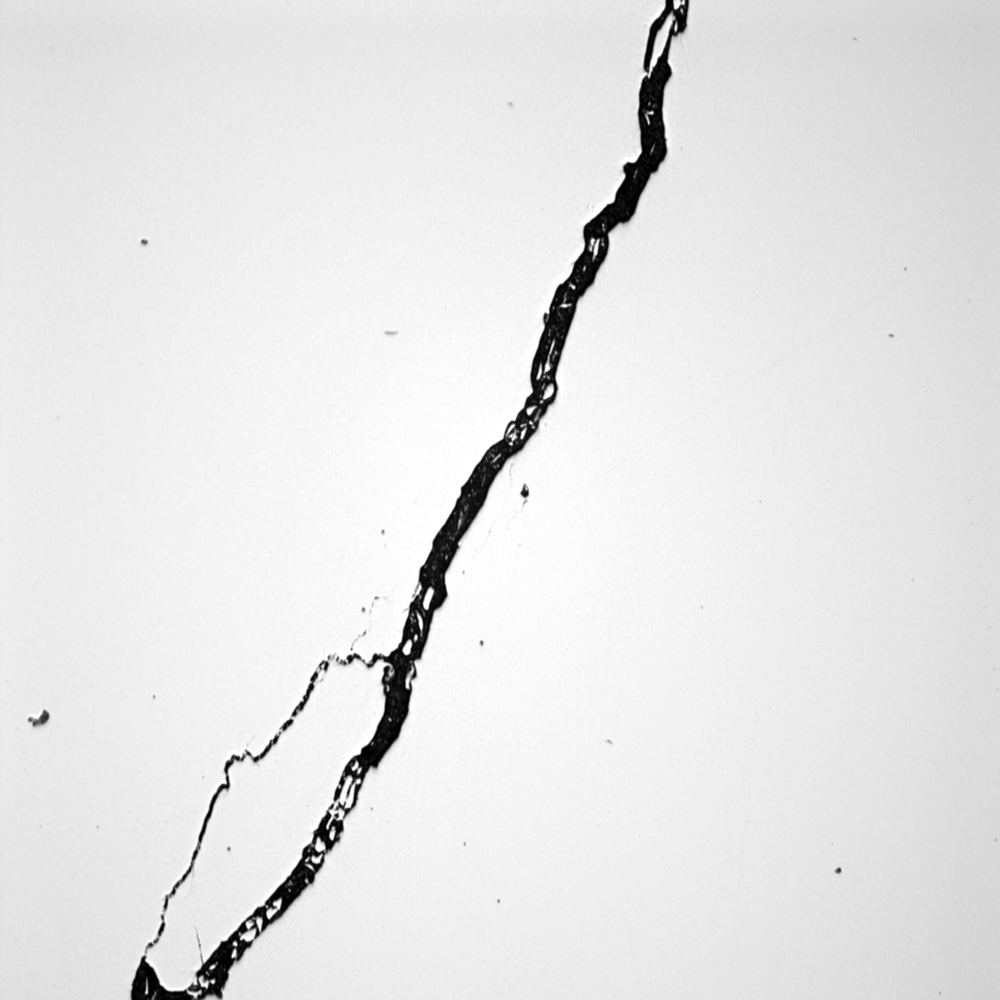crack: (104, 2, 741, 974)
